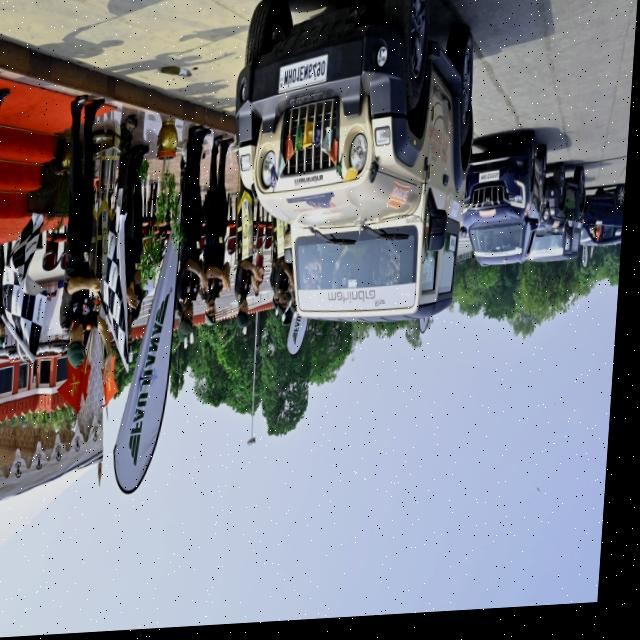plate: (279, 58, 331, 98), (479, 172, 504, 194)
